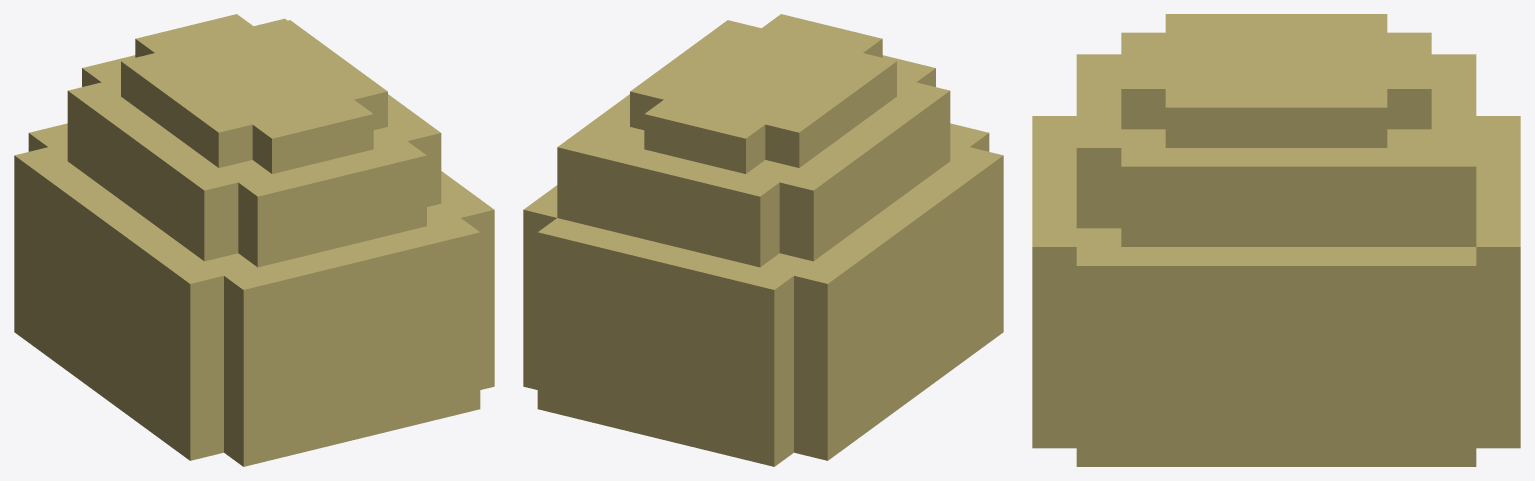
The model's file is Matojo_4.fbx.
3 renders of one model, left to right at view 1: azimuth 30°, elevation 25°; view 2: azimuth 150°, elevation 25°; view 3: azimuth 270°, elevation 25°, orthographic. The views are drawn at different scales.
Visible parts, largest first — view 1: matojo_4_9x8x11; view 2: matojo_4_9x8x11; view 3: matojo_4_9x8x11.
Boxes of the visible parts, x1=… form: matojo_4_9x8x11: x1=14, y1=14, x2=494, y2=466; matojo_4_9x8x11: x1=523, y1=14, x2=1003, y2=466; matojo_4_9x8x11: x1=1032, y1=14, x2=1520, y2=466.
Size of the model in its own units: 900 by 800 by 1100.
